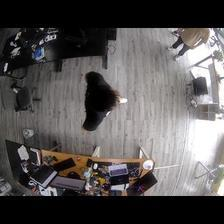normal: (81, 71, 128, 131)
